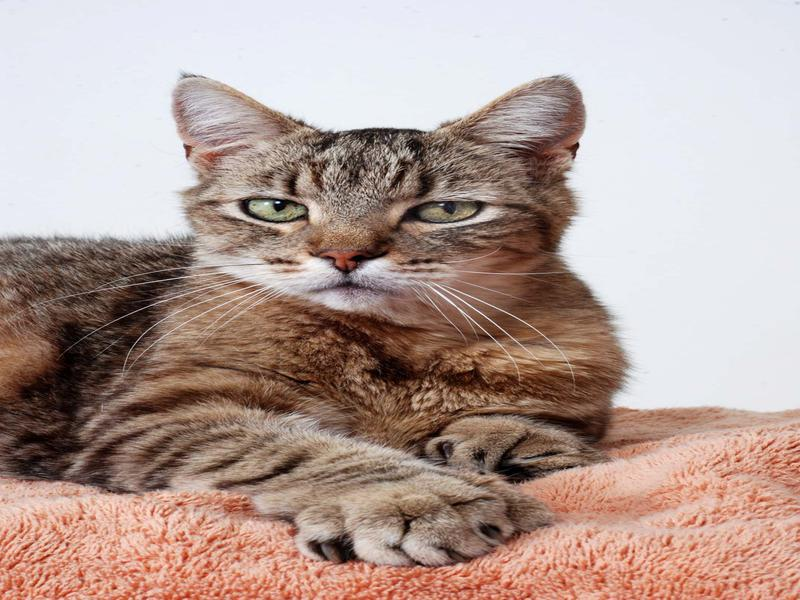cat: (14, 71, 640, 577)
